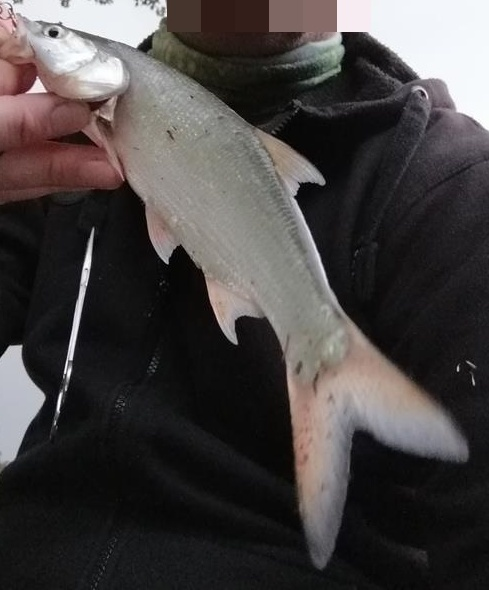Aspius aspius: (20, 20, 469, 570)
